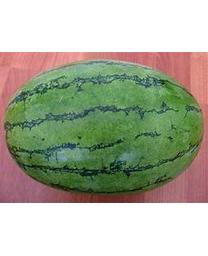watermelon: (5, 62, 204, 195)
